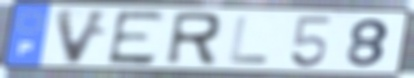5: (289, 15, 334, 69)
8: (345, 17, 390, 69)
E: (105, 9, 169, 67)
L: (226, 14, 272, 66)
R: (162, 10, 224, 68)
V: (53, 7, 114, 67)
